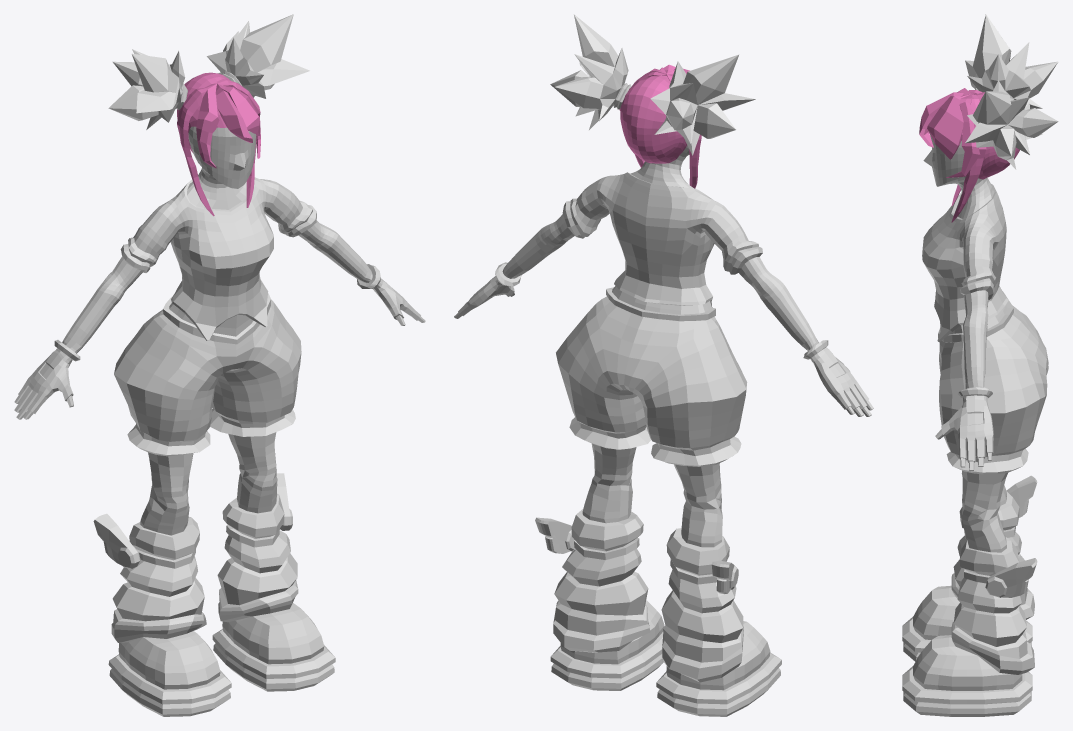
File: Robin.fbx
3 renders of one model, left to right at view 1: azimuth 30°, elevation 25°; view 2: azimuth 150°, elevation 25°; view 3: azimuth 270°, elevation 25°, orthographic. The views are drawn at different scales.
Parts seen in each view (by area): view 1: Robin rig test, bang, haarlok.005, haarlok.002, haarlok.001, haarlok; view 2: Robin rig test, bang; view 3: Robin rig test, bang, haarlok, haarlok.003, haarlok.004, haarlok.001.
Boxes of the visible parts, <box> form: Robin rig test: <box>14,72,425,716</box>; bang: <box>108,14,309,129</box>; haarlok.005: <box>177,83,216,216</box>; haarlok.002: <box>196,84,219,168</box>; haarlok.001: <box>216,84,252,142</box>; haarlok: <box>218,84,260,135</box>; Robin rig test: <box>454,75,873,716</box>; bang: <box>550,14,755,155</box>; Robin rig test: <box>902,92,1048,716</box>; bang: <box>965,14,1058,169</box>; haarlok: <box>927,94,970,159</box>; haarlok.003: <box>945,94,980,177</box>; haarlok.004: <box>951,94,986,222</box>; haarlok.001: <box>919,92,971,147</box>.
Size of the model in its own units: 151 by 227 by 51.61.
